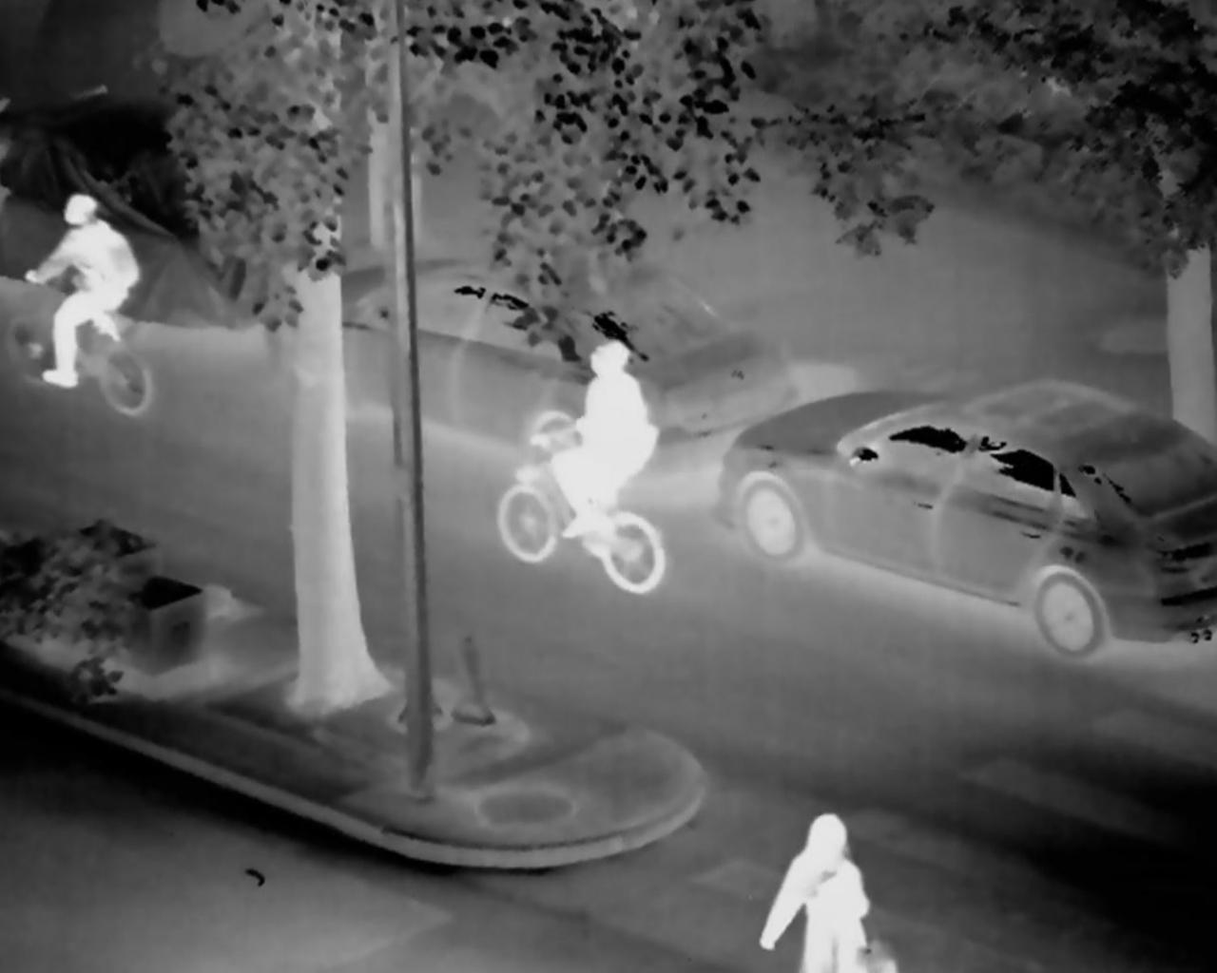person: (531, 336, 653, 563), (17, 190, 142, 392), (753, 809, 906, 973)
